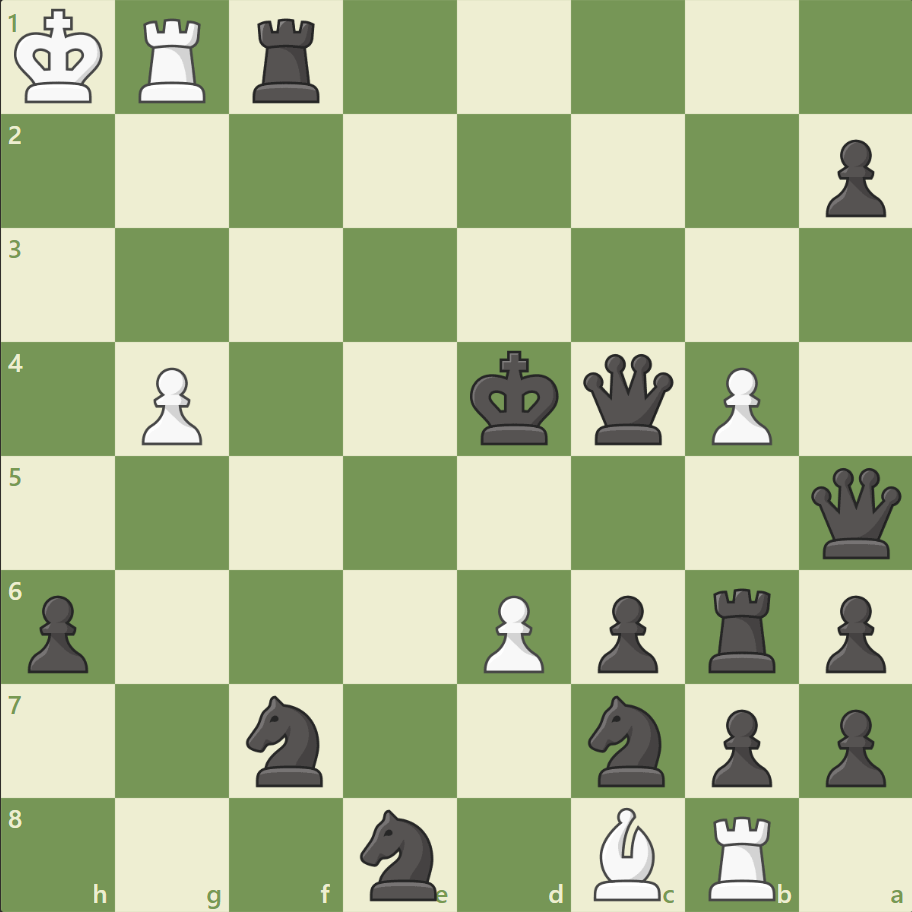B: (585, 801, 669, 904)
K: (11, 4, 111, 112)
P: (474, 586, 549, 677), (701, 359, 776, 450), (133, 359, 208, 450)
R: (700, 806, 783, 904), (133, 12, 215, 109)
k: (465, 344, 565, 452)
n: (351, 802, 449, 904), (579, 688, 676, 791), (238, 688, 335, 791)
p: (701, 700, 776, 791), (20, 586, 95, 677), (815, 700, 889, 791), (815, 586, 889, 677), (588, 586, 662, 677), (815, 132, 889, 223)
q: (578, 349, 677, 449), (805, 463, 904, 562)
r: (700, 579, 783, 676), (246, 12, 329, 109)
